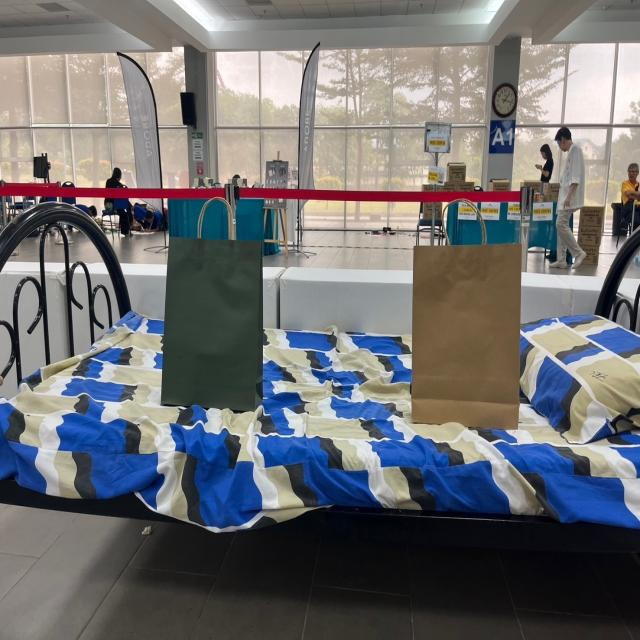bag: (414, 210, 521, 422), (170, 187, 262, 397)
